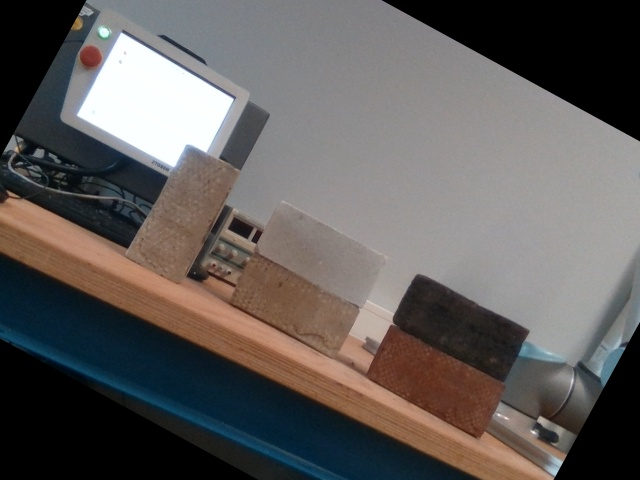brick: (124, 141, 239, 284), (367, 326, 506, 434), (392, 273, 527, 379), (255, 202, 384, 305), (228, 255, 357, 358)
